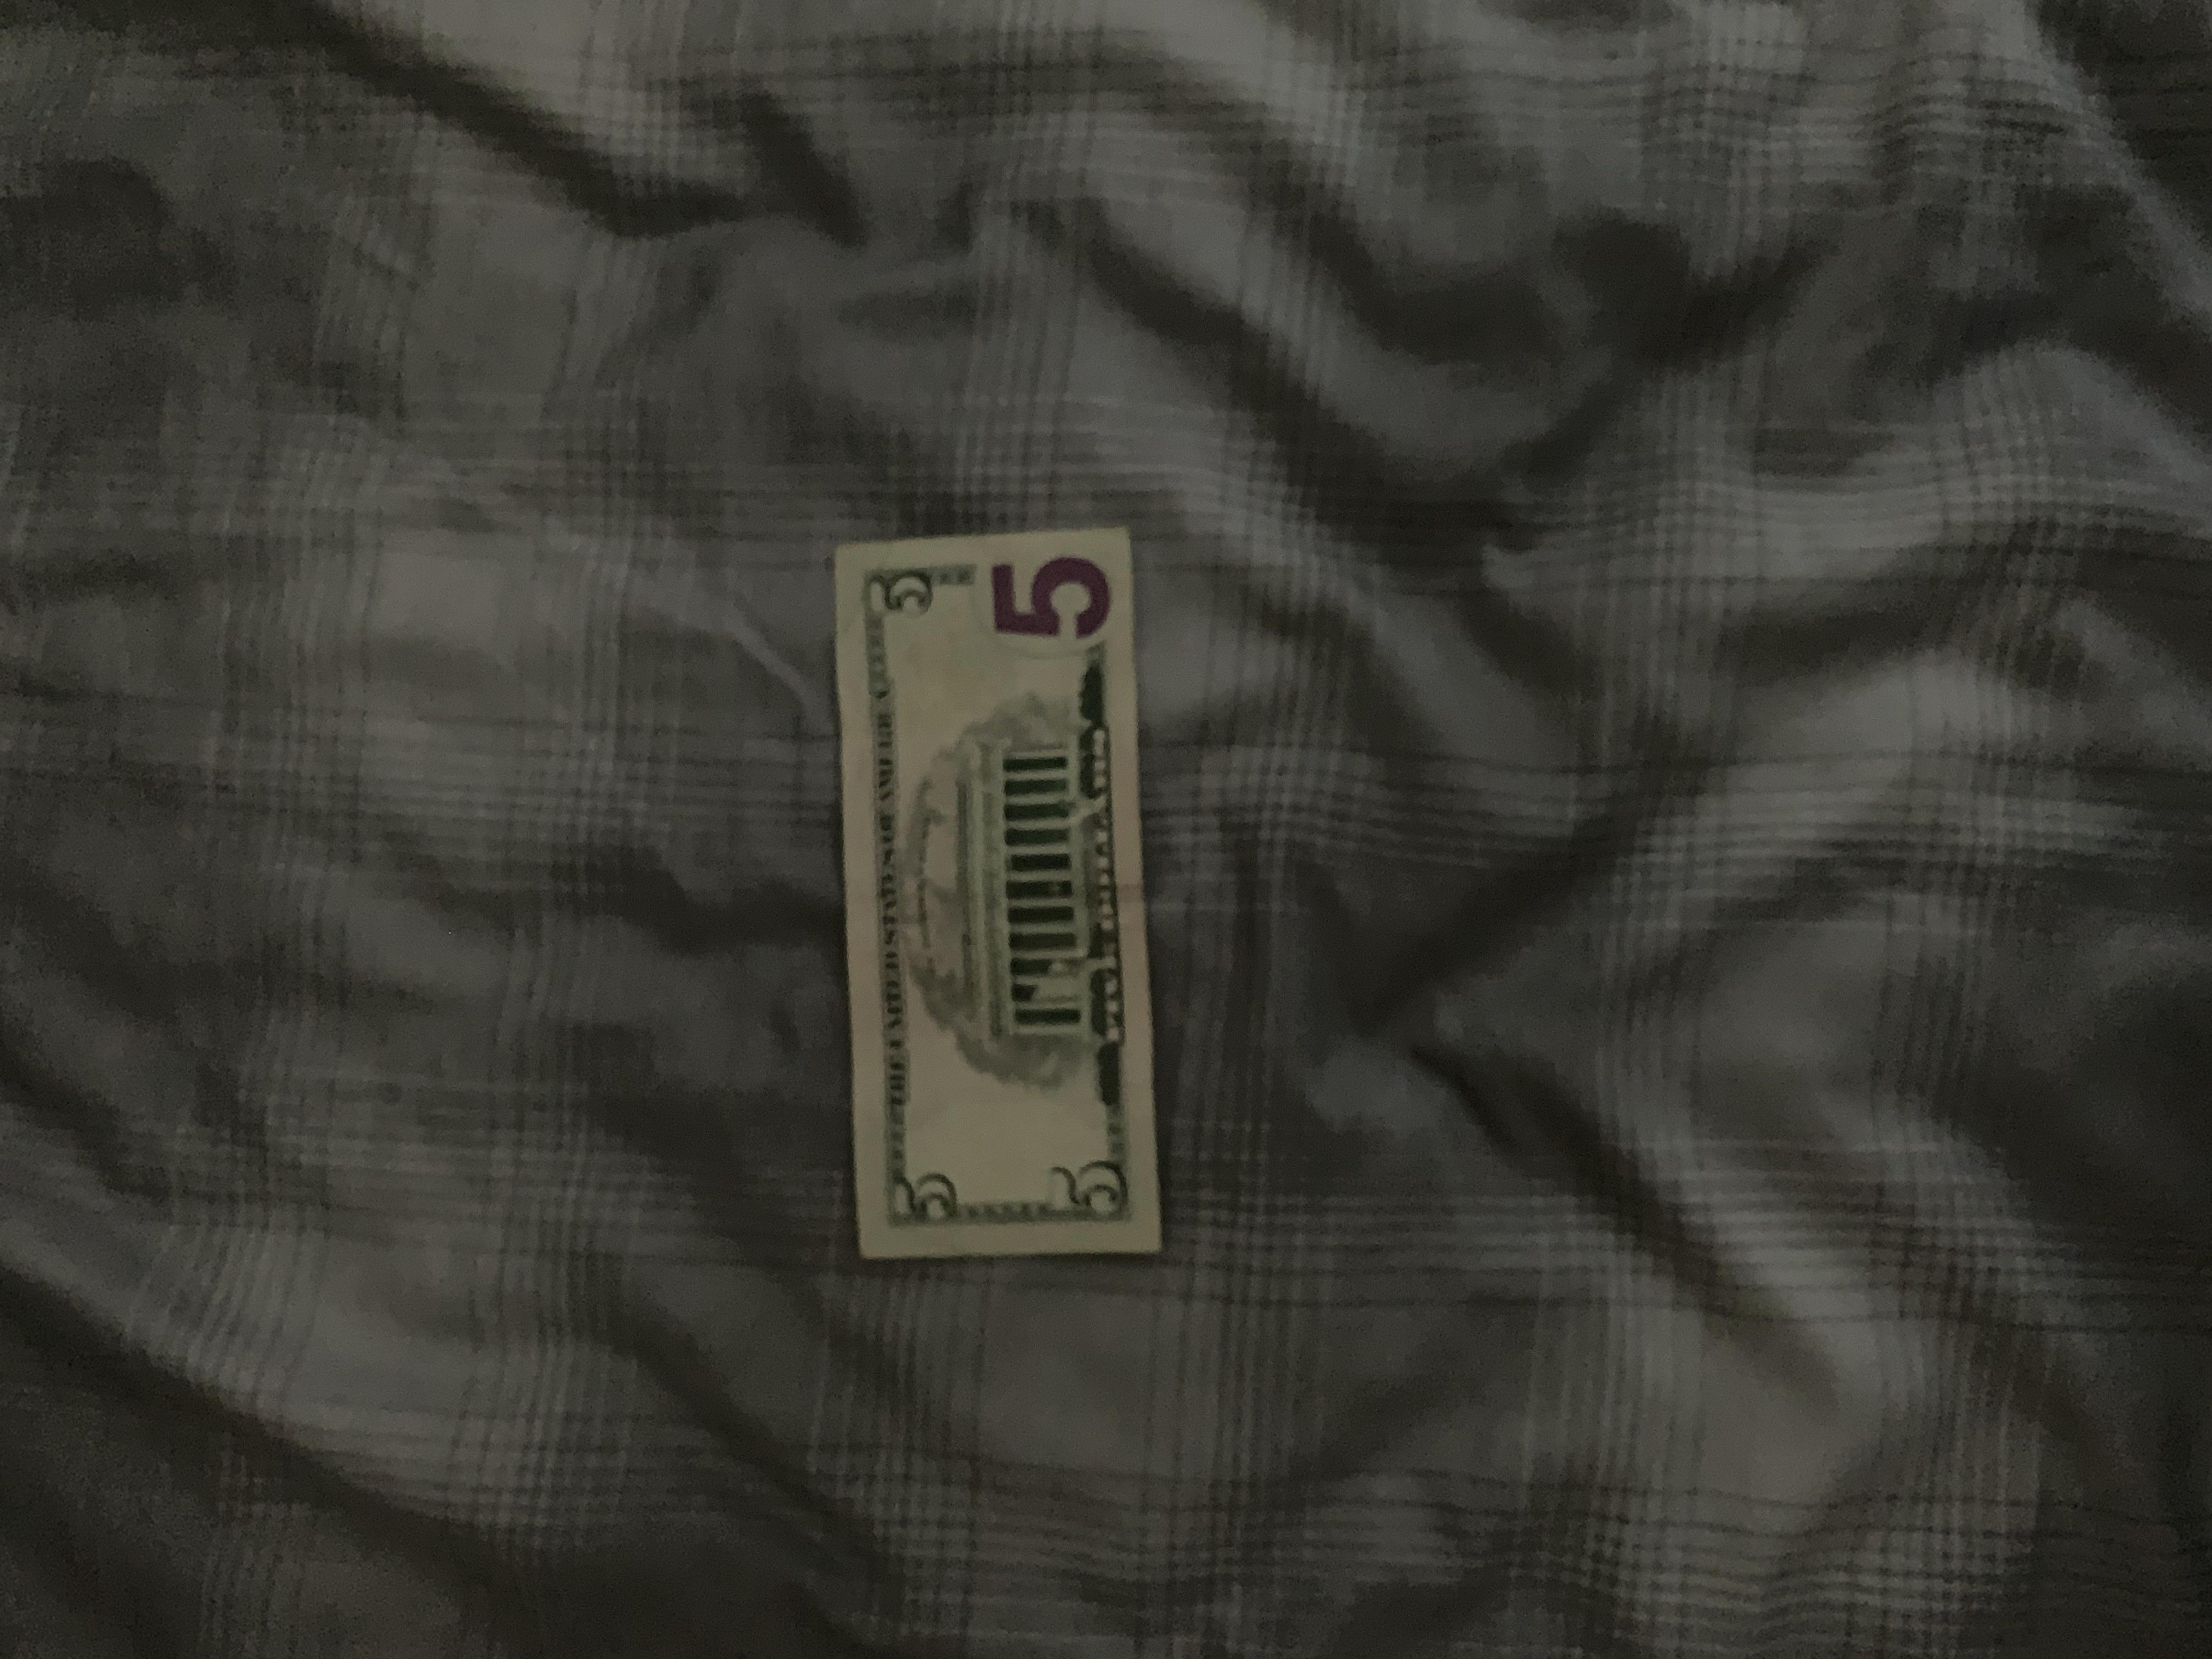FiveBill: (826, 516, 1167, 1263)
